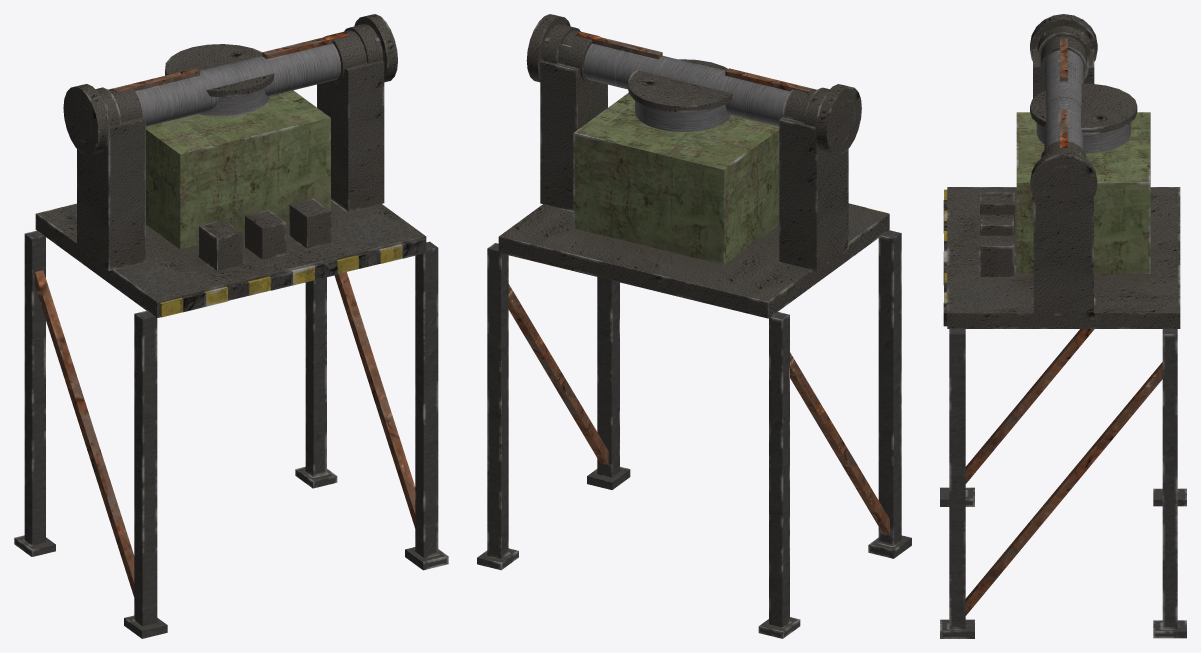
Rendered from feWireDrawer_HD.fbx.
3 renders of one model, left to right at view 1: azimuth 30°, elevation 25°; view 2: azimuth 150°, elevation 25°; view 3: azimuth 270°, elevation 25°, orthographic. The views are drawn at different scales.
Parts seen in each view (by area): view 1: feWireDrawer_Base, FeReach_Legs, FeSpin_DriveShaft, FeSpin_x1_Capstan; view 2: feWireDrawer_Base, FeReach_Legs, FeSpin_DriveShaft, FeSpin_x1_Capstan; view 3: feWireDrawer_Base, FeReach_Legs, FeSpin_DriveShaft, FeSpin_x1_Capstan.
Boxes of the visible parts, x1,y1,x2,y2 form: feWireDrawer_Base: [35, 30, 426, 317]; FeReach_Legs: [14, 230, 448, 638]; FeSpin_DriveShaft: [63, 14, 397, 155]; FeSpin_x1_Capstan: [165, 44, 274, 116]; feWireDrawer_Base: [498, 30, 889, 318]; FeReach_Legs: [477, 230, 911, 638]; FeSpin_DriveShaft: [526, 14, 861, 155]; FeSpin_x1_Capstan: [628, 59, 732, 131]; feWireDrawer_Base: [943, 36, 1180, 328]; FeReach_Legs: [940, 328, 1186, 638]; FeSpin_DriveShaft: [1030, 14, 1097, 215]; FeSpin_x1_Capstan: [1030, 83, 1137, 153].
Size of the model in its own units: 1.02 by 1.6 by 0.743.
Materials: 1 (1 with a texture image).
